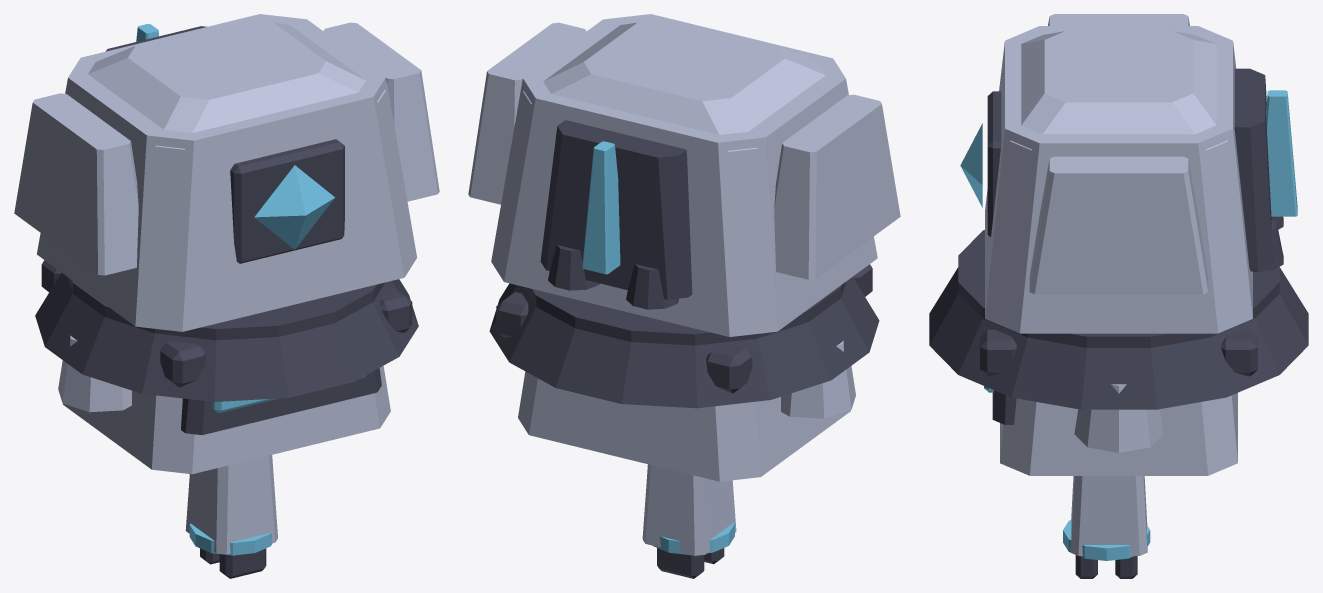
File: RectCharacter.fbx
The picture shows the model from 3 angles, left to right: view 1: azimuth 30°, elevation 25°; view 2: azimuth 150°, elevation 25°; view 3: azimuth 270°, elevation 25°; orthographic projection.
Visible parts, largest first — view 1: Rect_Torso, Rect_HoverBase, Rect_HeadCowl, Rect_TorsoDarkTrim, Rect_ArmChassis, Rect_VisorRecess, Rect_ChestCore, Rect_ArmTrim, Rect_ArmGlow; view 2: Rect_Torso, Rect_HoverBase, Rect_HeadCowl, Rect_TorsoDarkTrim, Rect_ArmChassis, Rect_ModeFin, Rect_ArmTrim, Rect_ArmGlow; view 3: Rect_Torso, Rect_HoverBase, Rect_HeadCowl, Rect_TorsoDarkTrim, Rect_ArmChassis, Rect_ModeFin, Rect_ArmGlow, Rect_ChestCore, Rect_ArmTrim, Rect_VisorRecess.
Part boxes in pixels (x1,y1,x2,y2): Rect_Torso: (14,14,439,331); Rect_HoverBase: (35,260,418,401); Rect_HeadCowl: (58,335,390,474); Rect_TorsoDarkTrim: (106,26,344,263); Rect_ArmChassis: (185,455,277,554); Rect_VisorRecess: (181,368,381,435); Rect_ChestCore: (254,165,334,249); Rect_ArmTrim: (200,548,266,578); Rect_ArmGlow: (189,523,272,555); Rect_Torso: (468,14,900,336); Rect_HoverBase: (489,264,879,408); Rect_HeadCowl: (518,341,855,481); Rect_TorsoDarkTrim: (540,120,692,309); Rect_ArmChassis: (642,464,736,555); Rect_ModeFin: (582,141,620,274); Rect_ArmTrim: (657,548,724,578); Rect_ArmGlow: (653,522,734,555); Rect_Torso: (985,14,1252,333); Rect_HoverBase: (929,230,1308,409); Rect_HeadCowl: (1000,384,1237,475); Rect_TorsoDarkTrim: (987,68,1283,272); Rect_ArmChassis: (1070,476,1147,555); Rect_ModeFin: (1266,90,1297,216); Rect_ArmGlow: (1063,520,1150,560); Rect_ChestCore: (960,123,982,207); Rect_ArmTrim: (1075,555,1137,578); Rect_VisorRecess: (992,390,1016,424).
Bounding box in the file's own units: 0.8 × 1.12 × 0.765.
